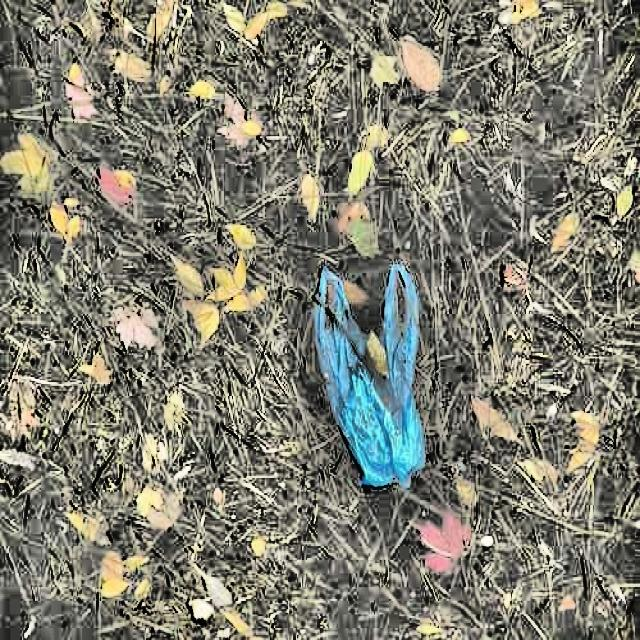Plastic: (300, 237, 453, 512)
